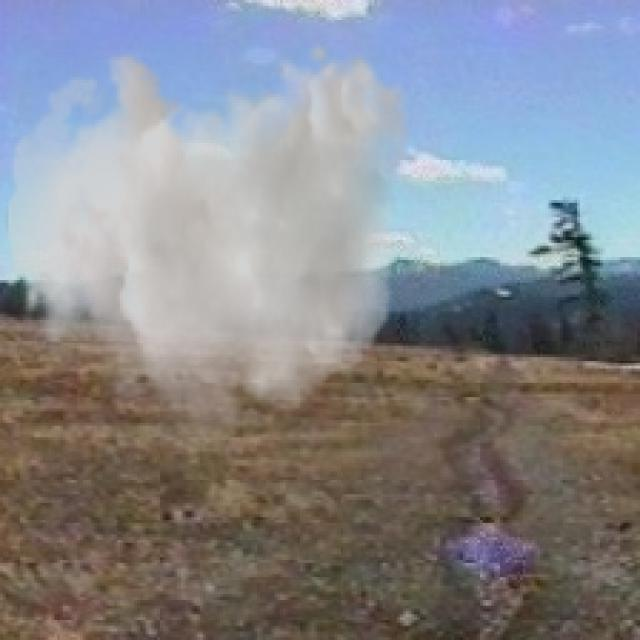smoke: (6, 37, 411, 463)
